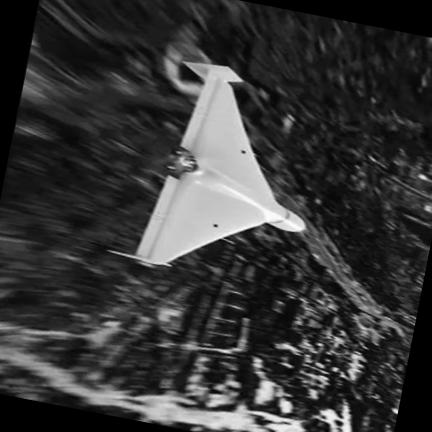Shahed: (108, 60, 305, 264)
